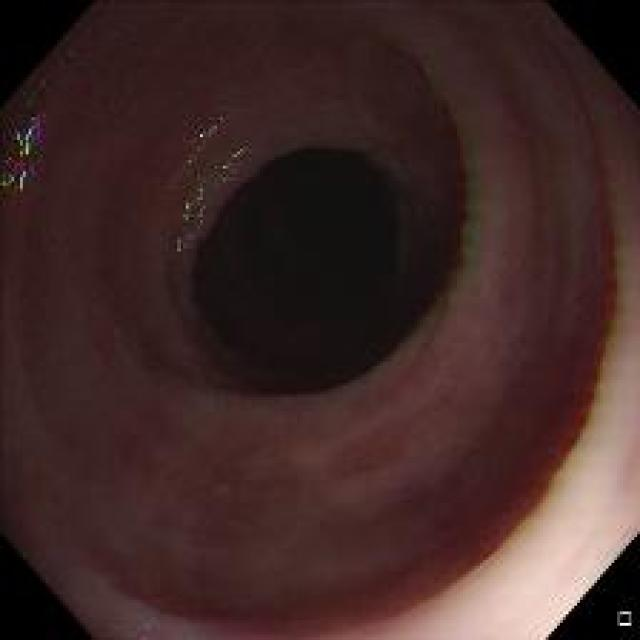color misalignment: (542, 122, 619, 475), (162, 110, 249, 261), (431, 108, 488, 326), (1, 106, 49, 202), (409, 46, 454, 118)
contrast: (141, 90, 506, 459)
